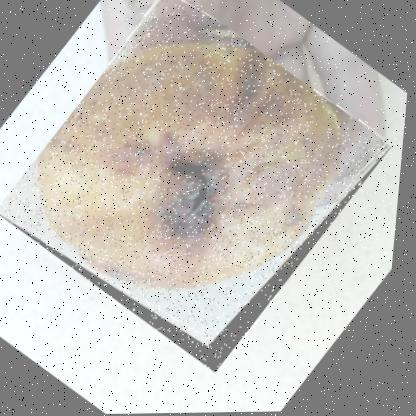guava_rotten: (0, 0, 405, 378)
